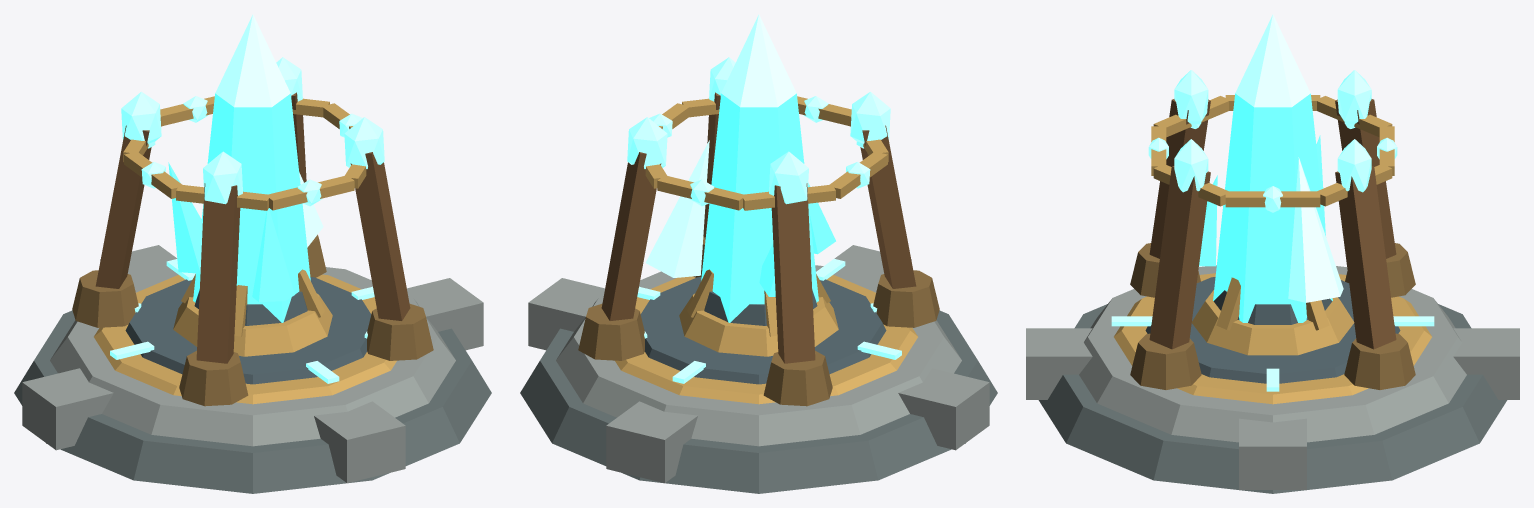
Rendered from ward_healthy.glb.
3 views of the same model, side by side, from view 1: azimuth 30°, elevation 25°; view 2: azimuth 150°, elevation 25°; view 3: azimuth 270°, elevation 25° (orthographic).
Visible parts, largest first — view 1: Ward_Foundation_Base.001, Ward_Foundation_Upper.001, Ward_Crystal_Core, Ward_Foundation_Core.001, Ward_Foundation_Inlay.001, Ward_Support_3, Ward_Foundation_Buttress_4.001, Ward_Support_4, Ward_Foundation_Buttress_3.001, Ward_Crystal_Tip, Ward_Foundation_Socket.001, Ward_Support_2 (+21 smaller); view 2: Ward_Foundation_Base.001, Ward_Foundation_Upper.001, Ward_Crystal_Core, Ward_Foundation_Core.001, Ward_Foundation_Inlay.001, Ward_Support_2, Ward_Foundation_Buttress_2.001, Ward_Support_1, Ward_Foundation_Buttress_3.001, Ward_Crystal_Tip, Ward_Foundation_Socket.001, Ward_Support_3 (+19 smaller); view 3: Ward_Foundation_Base.001, Ward_Foundation_Upper.001, Ward_Crystal_Core, Ward_Support_1, Ward_Support_4, Ward_Foundation_Inlay.001, Ward_Foundation_Core.001, Ward_Foundation_Socket.001, Ward_Foundation_Buttress_1.001, Ward_Crystal_Satellite_1, Ward_Crystal_Tip, Ward_Foundation_Buttress_2.001 (+19 smaller).
Boxes of the visible parts, x1=… form: Ward_Foundation_Base.001: x1=14, y1=310, x2=491, y2=493; Ward_Foundation_Upper.001: x1=50, y1=267, x2=455, y2=446; Ward_Crystal_Core: x1=193, y1=93, x2=310, y2=322; Ward_Foundation_Core.001: x1=125, y1=277, x2=371, y2=384; Ward_Foundation_Inlay.001: x1=94, y1=274, x2=396, y2=404; Ward_Support_3: x1=196, y1=183, x2=240, y2=363; Ward_Foundation_Buttress_4.001: x1=314, y1=401, x2=405, y2=483; Ward_Support_4: x1=350, y1=152, x2=410, y2=320; Ward_Foundation_Buttress_3.001: x1=22, y1=368, x2=113, y2=450; Ward_Crystal_Tip: x1=215, y1=14, x2=290, y2=107; Ward_Foundation_Socket.001: x1=173, y1=293, x2=332, y2=356; Ward_Support_2: x1=95, y1=125, x2=151, y2=288; Ward_Foundation_Base.001: x1=520, y1=310, x2=997, y2=493; Ward_Foundation_Upper.001: x1=556, y1=265, x2=961, y2=446; Ward_Crystal_Core: x1=701, y1=93, x2=818, y2=322; Ward_Foundation_Core.001: x1=640, y1=277, x2=886, y2=384; Ward_Foundation_Inlay.001: x1=615, y1=275, x2=917, y2=404; Ward_Support_2: x1=771, y1=183, x2=815, y2=363; Ward_Foundation_Buttress_2.001: x1=606, y1=401, x2=697, y2=483; Ward_Support_1: x1=601, y1=152, x2=661, y2=320; Ward_Foundation_Buttress_3.001: x1=898, y1=368, x2=989, y2=450; Ward_Crystal_Tip: x1=721, y1=14, x2=796, y2=107; Ward_Foundation_Socket.001: x1=679, y1=293, x2=838, y2=356; Ward_Support_3: x1=860, y1=125, x2=916, y2=288; Ward_Foundation_Base.001: x1=1038, y1=304, x2=1507, y2=493; Ward_Foundation_Upper.001: x1=1079, y1=265, x2=1466, y2=442; Ward_Crystal_Core: x1=1213, y1=93, x2=1332, y2=322; Ward_Support_1: x1=1335, y1=166, x2=1396, y2=349; Ward_Support_4: x1=1149, y1=166, x2=1210, y2=349; Ward_Foundation_Inlay.001: x1=1114, y1=273, x2=1431, y2=404; Ward_Foundation_Core.001: x1=1145, y1=277, x2=1400, y2=383; Ward_Foundation_Socket.001: x1=1191, y1=289, x2=1354, y2=355; Ward_Foundation_Buttress_1.001: x1=1239, y1=418, x2=1306, y2=489; Ward_Crystal_Satellite_1: x1=1288, y1=157, x2=1343, y2=302; Ward_Crystal_Tip: x1=1235, y1=14, x2=1310, y2=107; Ward_Foundation_Buttress_2.001: x1=1453, y1=328, x2=1519, y2=399.
Size of the model in its own units: 2.48 by 2.1 by 2.48.
